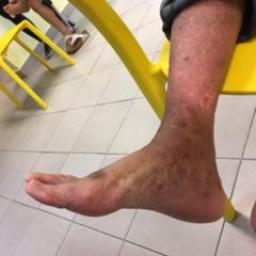Medial View -Right Foot-: (8, 94, 248, 242)
